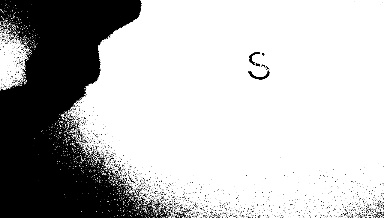S: (241, 46, 277, 82)
